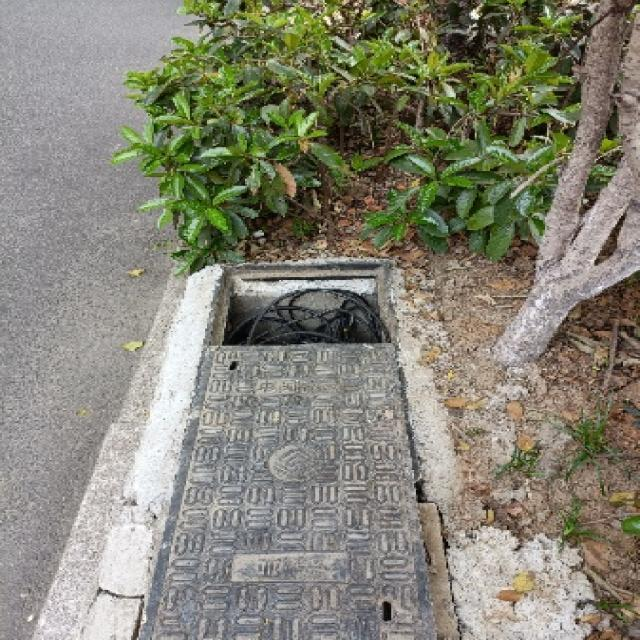Faulty: (132, 250, 502, 640)
